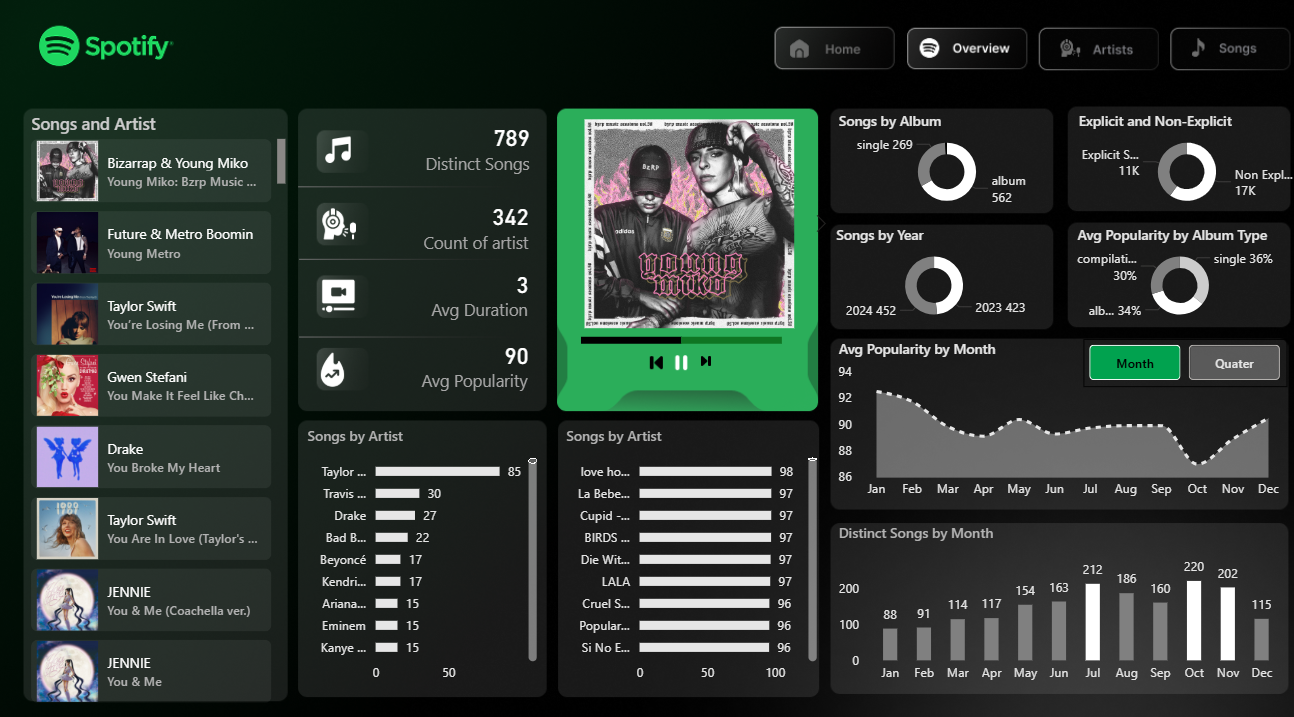

This screenshot's page, from the dashboard's own definition file:
{"tool":"powerbi","page":{"name":"Overview","canvas":[1280,720],"ordinal":1},"visuals":[{"type":"clusteredBarChart","title":" Songs by Artist","fields":{"Category":["Top-50 world.artist"],"Y":["Top-50 world.Distinct Songs"]},"box":[300.4,417.4,231.6,255.8],"z":0},{"type":"clusteredBarChart","title":" Songs by Artist","fields":{"Category":["Top-50 world.song"],"Y":["Top-50 world.Avg Popularity"]},"box":[550.5,417.6,252,255.8],"z":1000},{"type":"areaChart","fields":{"Category":["Top-50 world.Month"],"Y":["Top-50 world.Avg Popularity"]},"box":[812.5,333.5,438.9,163],"z":2000},{"type":"advancedSlicerVisual","fields":{"Values":["Slicer_option.Slicer_option"]},"box":[1054.5,333.5,196.9,46.4],"z":3000},{"type":"donutChart","title":"Songs by Album","fields":{"Category":["Top-50 world.album_type"],"Y":["Top-50 world.Distinct Songs"]},"box":[812.5,112.9,219.4,99.1],"z":4000},{"type":"donutChart","title":"Explicit and Non-Explicit","fields":{"Y":["Top-50 world.Non Explicit Songs Count","Top-50 world.Explicit Songs Count"]},"box":[1044.5,112.9,219.4,99.1],"z":5000},{"type":"donutChart","title":"Songs by Year","fields":{"Y":["Top-50 world.Distinct Songs"],"Category":["Top-50 world.date.Variation.Date Hierarchy.Year"]},"box":[811.3,223.2,199.4,99.1],"z":6000},{"type":"donutChart","title":"Avg Popularity by Album Type","fields":{"Category":["Top-50 world.album_type"],"Y":["Top-50 world.Avg Popularity"]},"box":[1043.3,223.2,208.2,99.1],"z":7000},{"type":"clusteredColumnChart","fields":{"Category":["Top-50 world.Month"],"Y":["Top-50 world.Distinct Songs"]},"box":[812.5,510.3,438.9,163],"z":8000},{"type":"advanceCardE03760C5AB684758B56AA29F9E6C257B","fields":{"mainMeasure":["Top-50 world.Distinct Songs"]},"box":[319.7,113.4,212.3,67.6],"z":9000},{"type":"advanceCardE03760C5AB684758B56AA29F9E6C257B","fields":{"mainMeasure":["Count(Top-50 world.artist)"]},"box":[319.7,189.4,212.3,67.6],"z":10000},{"type":"advanceCardE03760C5AB684758B56AA29F9E6C257B","fields":{"mainMeasure":["Top-50 world.Avg Song Duration (Min)"]},"box":[319.7,254.6,212.3,67.6],"z":11000},{"type":"advanceCardE03760C5AB684758B56AA29F9E6C257B","fields":{"mainMeasure":["Top-50 world.Avg Popularity"]},"box":[319.7,323.3,212.3,67.6],"z":12000},{"type":"image","box":[289.5,346.2,90.5,32.6],"z":13000},{"type":"image","box":[319.7,201.5,32.6,41],"z":14000},{"type":"image","box":[312.5,272.7,45.8,37.4],"z":15000},{"type":"image","box":[318.5,137.5,32.6,25.3],"z":16000},{"type":"advancedSlicerVisual","title":"Songs and Artist","fields":{"Values":["Top-50 world.song"]},"box":[33.8,113.4,255.8,576.7],"z":17000},{"type":"advancedSlicerVisual","title":"Songs and Artist","fields":{"Values":["Top-50 world.song"]},"box":[532,102.5,284.7,238.9],"z":18000},{"type":"hundredPercentStackedBarChart","fields":{"Y":["Top-50 world.Avg Popularity","Top-50 world.Avg Popularity Clean"]},"box":[564.6,299.2,203.9,63.9],"z":19000},{"type":"image","box":[571.9,348.7,189.4,14.5],"z":20000},{"type":"image","box":[550.1,348.7,184.6,14.5],"z":21000},{"type":"image","box":[602,348.7,176.1,10.9],"z":22000},{"type":"actionButton","box":[756.4,32.3,117,39.8],"z":23000},{"type":"actionButton","box":[883.1,32.3,117,39.8],"z":24000},{"type":"actionButton","box":[1008.6,32.3,117,39.8],"z":25000},{"type":"actionButton","box":[1135.3,32.3,117,39.8],"z":26000}]}

Visuals, with their boxes in screenshot pixels (x1, y1, x2, y2), scaled from the page's 1280x720 canvas onto the 1294x717 screenshot:
" Songs by Artist" clusteredBarChart: bbox(304, 416, 538, 670)
" Songs by Artist" clusteredBarChart: bbox(557, 416, 811, 671)
areaChart - Top-50 world.Month x Top-50 world.Avg Popularity: bbox(821, 332, 1265, 494)
advancedSlicerVisual - Slicer_option.Slicer_option: bbox(1066, 332, 1265, 378)
"Songs by Album" donutChart: bbox(821, 112, 1043, 211)
"Explicit and Non-Explicit" donutChart: bbox(1056, 112, 1278, 211)
"Songs by Year" donutChart: bbox(820, 222, 1022, 321)
"Avg Popularity by Album Type" donutChart: bbox(1055, 222, 1265, 321)
clusteredColumnChart - Top-50 world.Month x Top-50 world.Distinct Songs: bbox(821, 508, 1265, 670)
advanceCardE03760C5AB684758B56AA29F9E6C257B - Top-50 world.Distinct Songs: bbox(323, 113, 538, 180)
advanceCardE03760C5AB684758B56AA29F9E6C257B - Count(Top-50 world.artist): bbox(323, 189, 538, 256)
advanceCardE03760C5AB684758B56AA29F9E6C257B - Top-50 world.Avg Song Duration (Min): bbox(323, 254, 538, 321)
advanceCardE03760C5AB684758B56AA29F9E6C257B - Top-50 world.Avg Popularity: bbox(323, 322, 538, 389)
image: bbox(293, 345, 384, 377)
image: bbox(323, 201, 356, 241)
image: bbox(316, 272, 362, 309)
image: bbox(322, 137, 355, 162)
"Songs and Artist" advancedSlicerVisual: bbox(34, 113, 293, 687)
"Songs and Artist" advancedSlicerVisual: bbox(538, 102, 826, 340)
hundredPercentStackedBarChart - Top-50 world.Avg Popularity x Top-50 world.Avg Popularity Clean: bbox(571, 298, 777, 362)
image: bbox(578, 347, 770, 362)
image: bbox(556, 347, 743, 362)
image: bbox(609, 347, 787, 358)
actionButton: bbox(765, 32, 883, 72)
actionButton: bbox(893, 32, 1011, 72)
actionButton: bbox(1020, 32, 1138, 72)
actionButton: bbox(1148, 32, 1266, 72)
